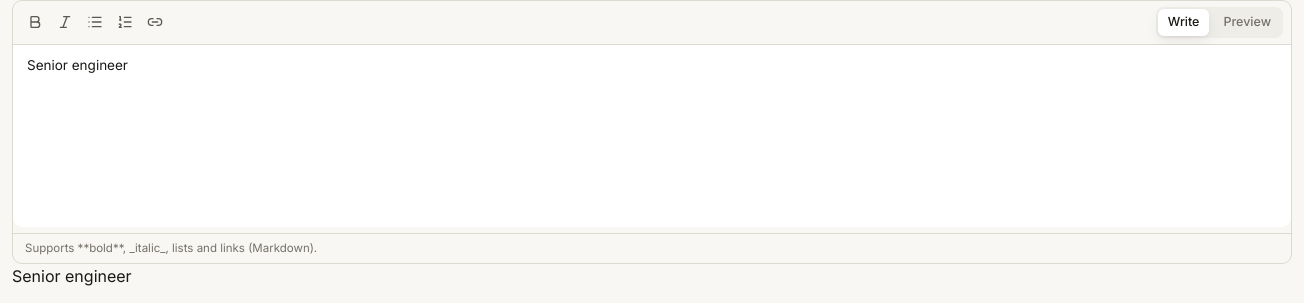
RichTextEditor (PB41 AC3) › applies toolbar formatting to the selected text as Markdown
Click the button named "Bold" at (35, 22), box 21,8 -> 49,36
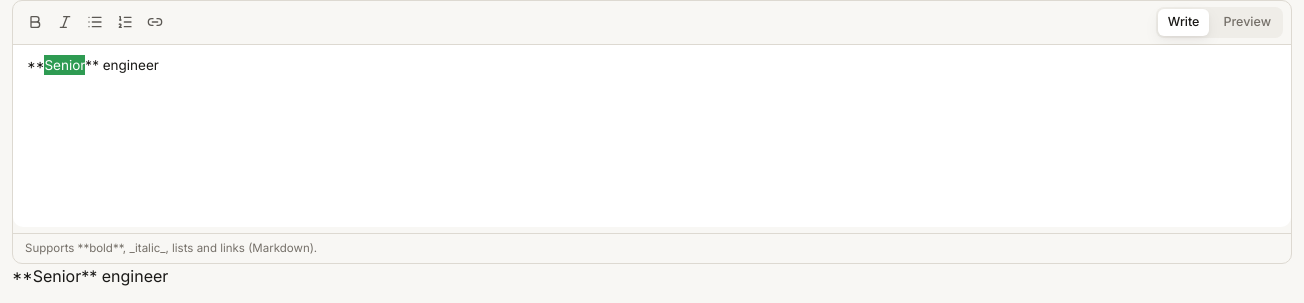
Result: the text with test id "value" reads "**Senior** engineer" at 12,266 -> 168,286
